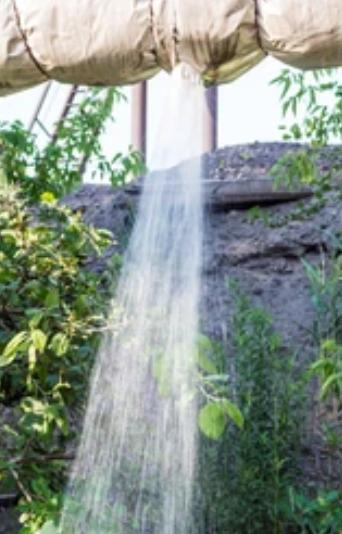pipe burst: (56, 57, 205, 534)
